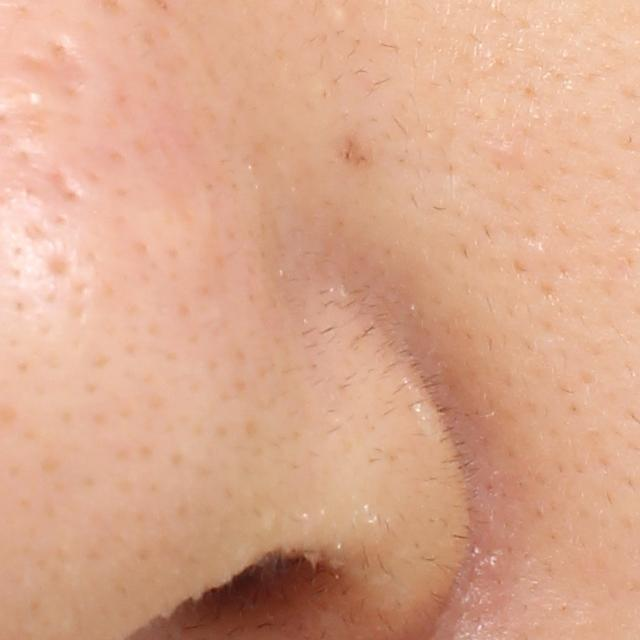atrophic_scar: (8, 28, 99, 104), (52, 164, 91, 206)
comedo: (331, 6, 353, 26)
